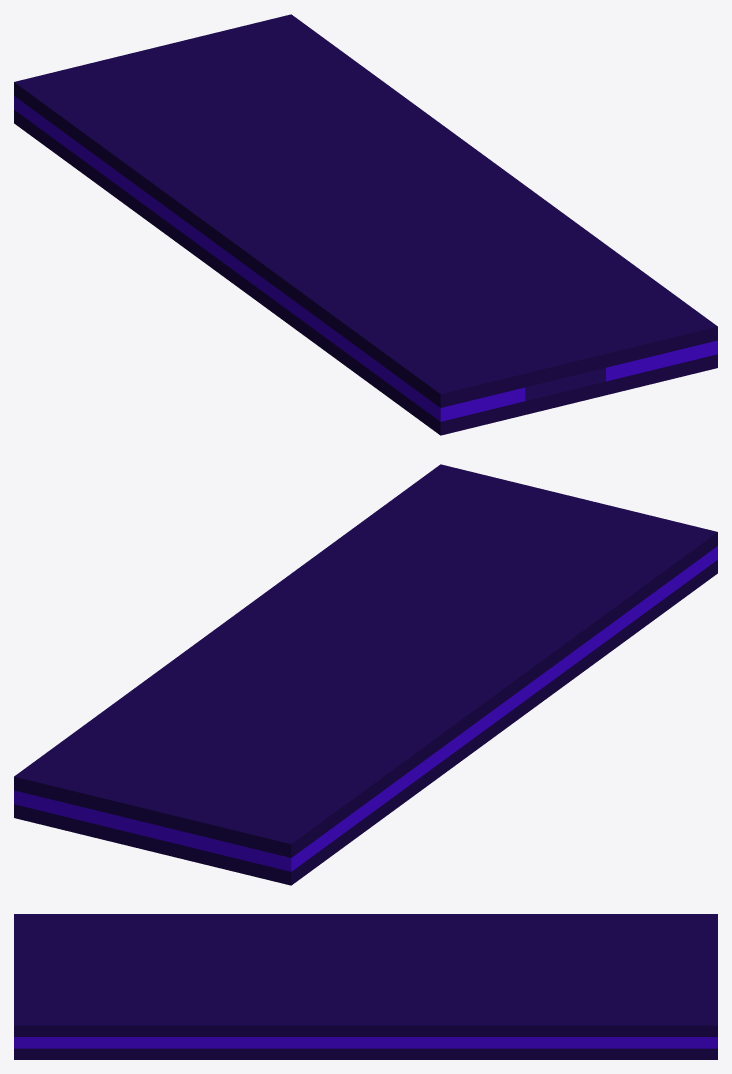
File: static-walls.glb
3 renders of one model, top to bottom at view 1: azimuth 30°, elevation 25°; view 2: azimuth 150°, elevation 25°; view 3: azimuth 270°, elevation 25°, orthographic. The views are drawn at different scales.
Parts seen in each view (by area): view 1: top-cover_colconvex, Plane.002_colconvex, Plane.009_coltri, Plane.012_coltri, Plane.020_coltri, Plane.003_coltri, Plane.011_colconvex, Plane.008_coltri; view 2: top-cover_colconvex, Plane.002_colconvex, Plane.009_coltri, Plane.001_colconvex, Plane.003_coltri, BézierCurve.001_coltri, Plane.011_colconvex, Plane.008_coltri; view 3: top-cover_colconvex, Plane.002_colconvex, Plane_colconvex, BézierCurve.001_coltri.
Part boxes in pixels (<box>): top-cover_colconvex: <box>14,14,717,407</box>; Plane.002_colconvex: <box>14,110,717,435</box>; Plane.009_coltri: <box>166,207,326,337</box>; Plane.012_coltri: <box>395,375,525,421</box>; Plane.020_coltri: <box>606,347,689,381</box>; Plane.003_coltri: <box>14,96,77,155</box>; Plane.011_colconvex: <box>340,335,395,388</box>; Plane.008_coltri: <box>118,172,166,220</box>; top-cover_colconvex: <box>14,464,717,857</box>; Plane.002_colconvex: <box>14,560,717,885</box>; Plane.009_coltri: <box>443,629,603,759</box>; Plane.001_colconvex: <box>84,807,226,855</box>; Plane.003_coltri: <box>226,812,354,871</box>; BézierCurve.001_coltri: <box>14,790,83,821</box>; Plane.011_colconvex: <box>618,579,672,632</box>; Plane.008_coltri: <box>395,747,443,795</box>; top-cover_colconvex: <box>14,914,717,1036</box>; Plane.002_colconvex: <box>14,1048,717,1059</box>; Plane_colconvex: <box>14,1037,621,1048</box>; BézierCurve.001_coltri: <box>621,1037,717,1048</box>.
Size of the model in its own units: 5.25 by 0.75 by 14.
